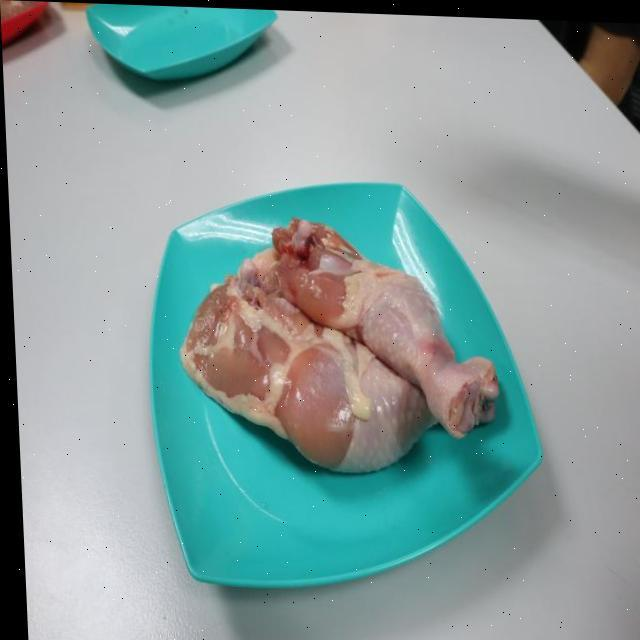quater: (166, 274, 434, 471), (254, 203, 492, 415)
